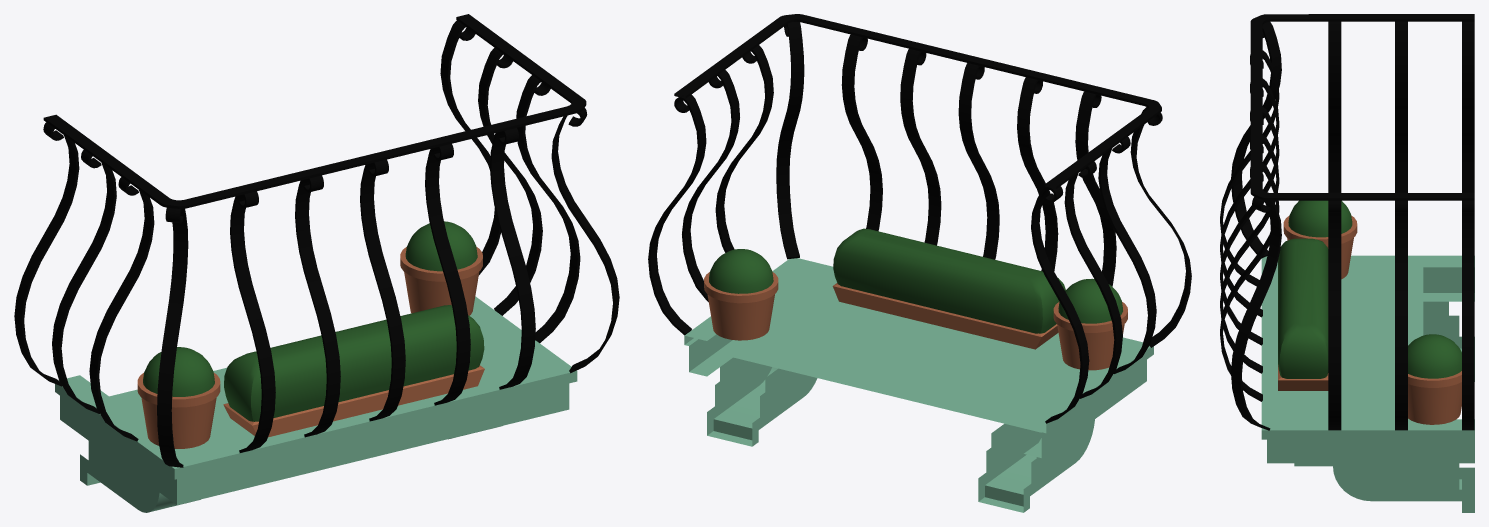
The model's file is object_B2_Balcony.glb.
3 renders of one model, left to right at view 1: azimuth 30°, elevation 25°; view 2: azimuth 150°, elevation 25°; view 3: azimuth 270°, elevation 25°, orthographic. The views are drawn at different scales.
Parts seen in each view (by area): view 1: B2 Balcony; view 2: B2 Balcony; view 3: B2 Balcony.
Part boxes in pixels (<box>): B2 Balcony: <box>14,14,619,512</box>; B2 Balcony: <box>648,14,1191,512</box>; B2 Balcony: <box>1220,14,1474,512</box>.
Size of the model in its own units: 1.92 by 1.41 by 0.9871.
Materials: 4 (1 with a texture image).
